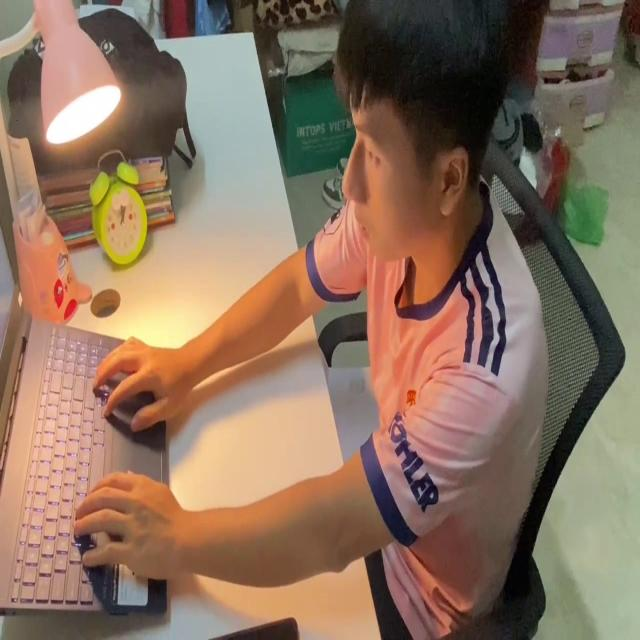book: (319, 342, 384, 467)
laptop: (0, 205, 170, 622)
phone: (211, 606, 299, 640)
student: (71, 0, 549, 640)
